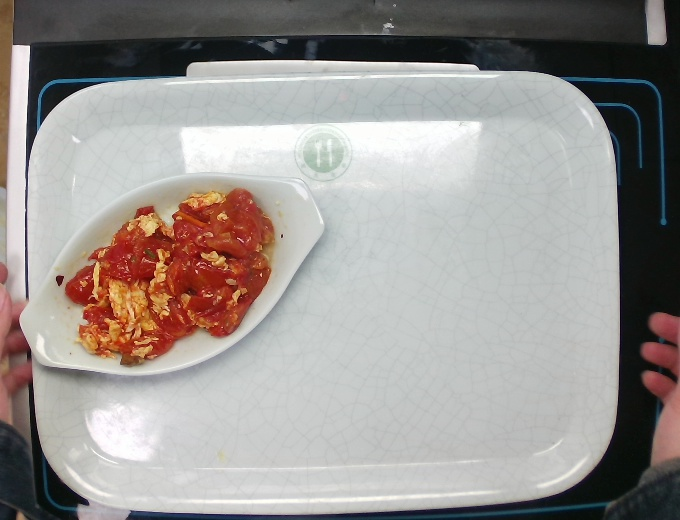JYsf-Yu_Pan: (9, 169, 338, 390)
